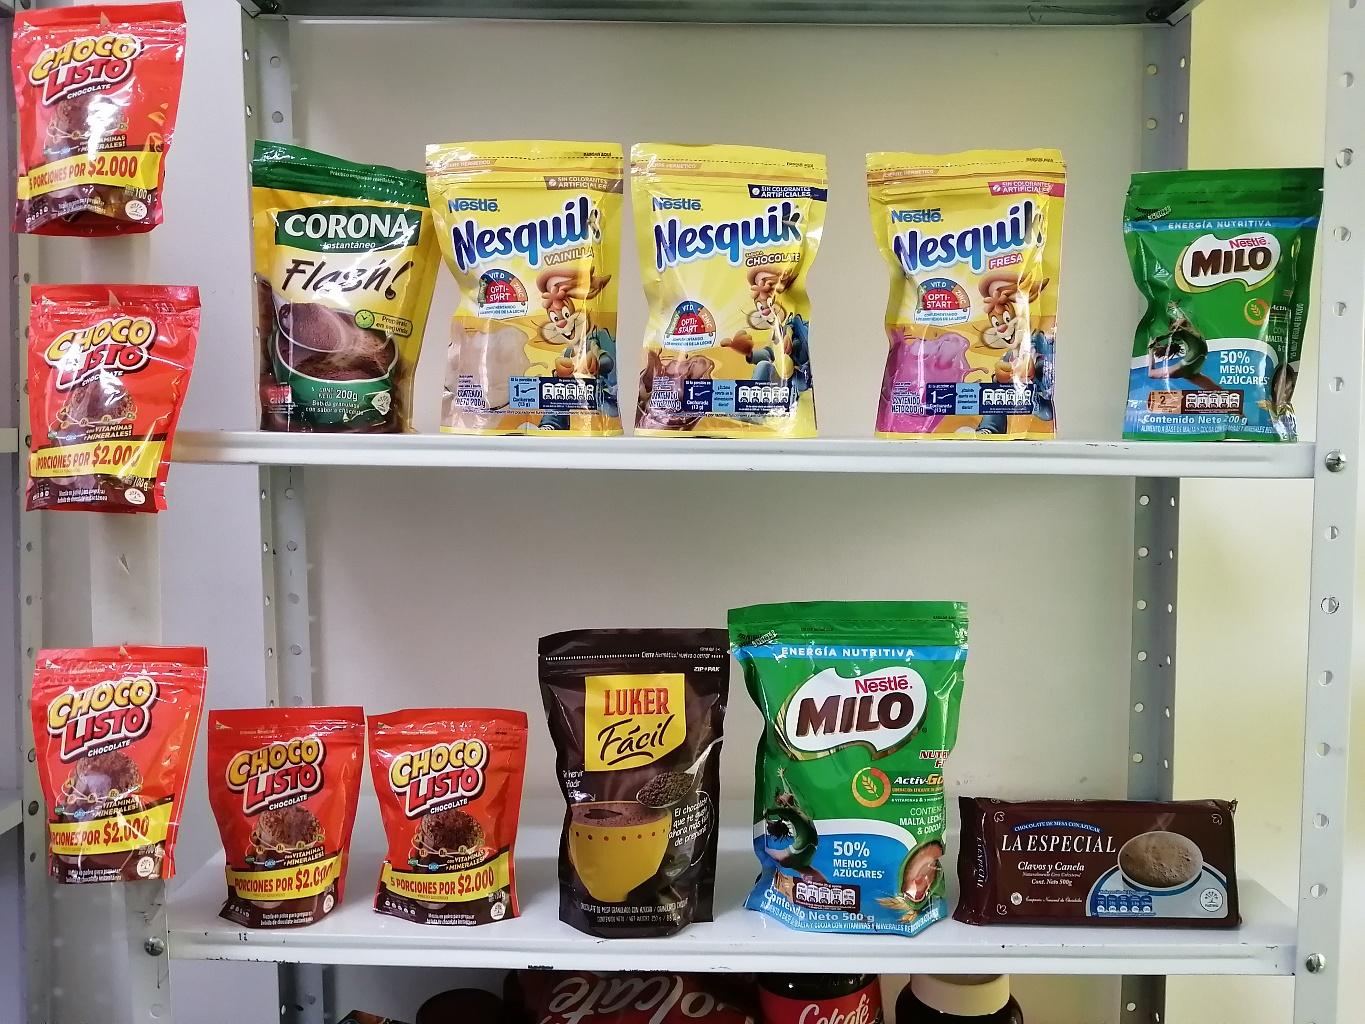COL0170205DYP20000: (1131, 153, 1330, 447)
COL0170205DYP50000: (727, 572, 968, 943)
COL0170303DYP20000: (625, 124, 847, 435)
COL0170305DYP20000: (857, 127, 1076, 454)
COL0170306DYP20000: (412, 124, 622, 426)
